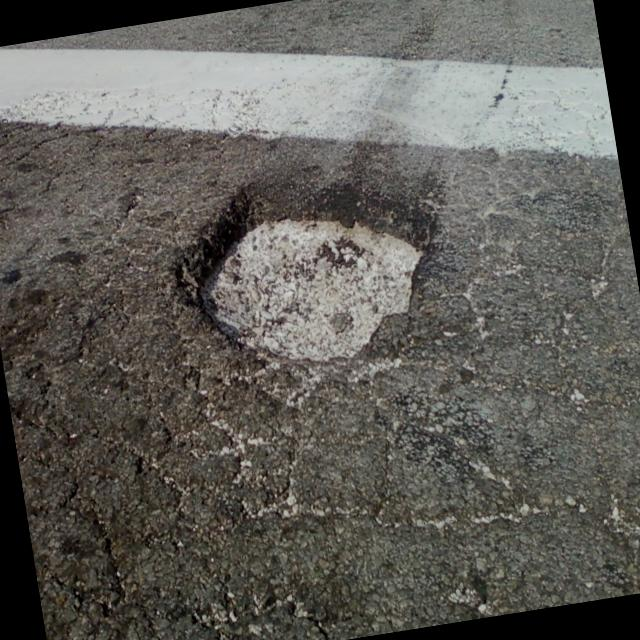bad-road: (159, 150, 454, 384)
